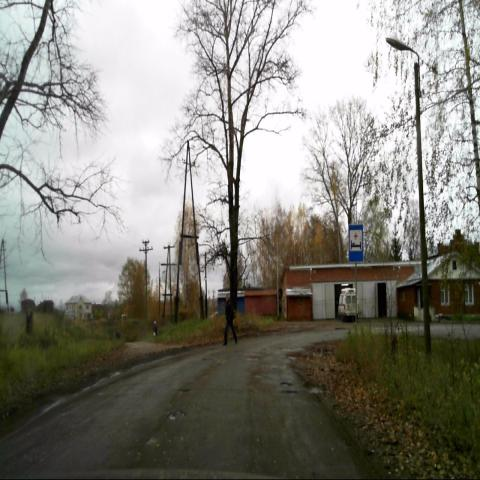7_2: (349, 225, 363, 262)
